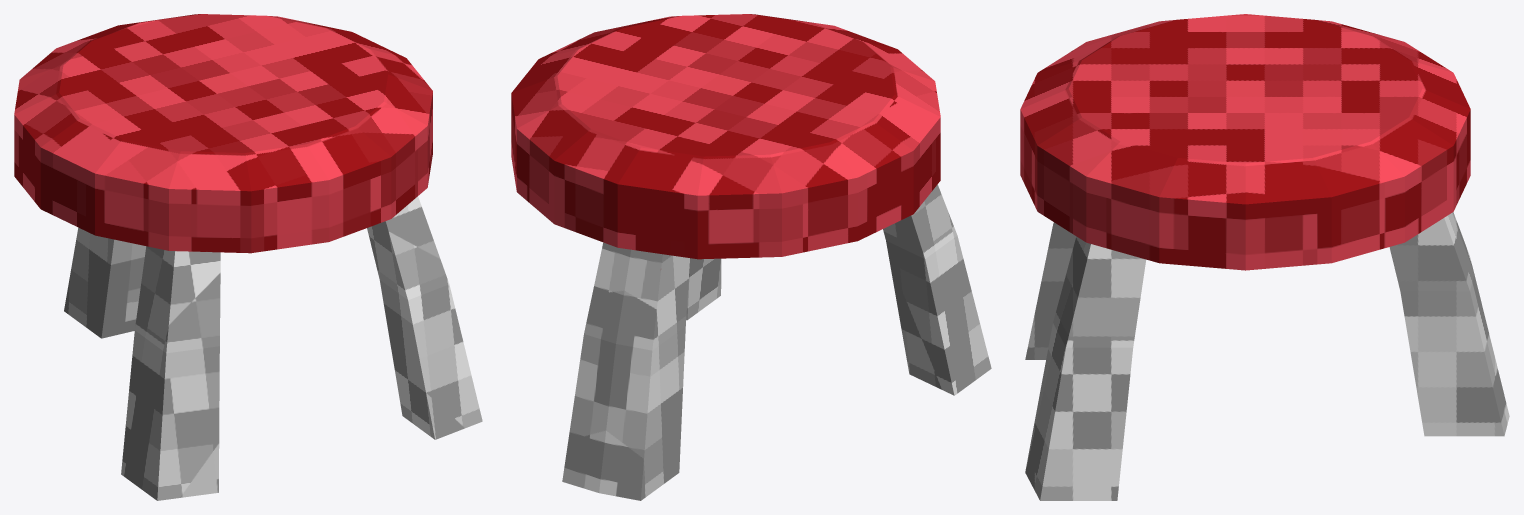
File: stool.fbx
The picture shows the model from 3 angles, left to right: view 1: azimuth 30°, elevation 25°; view 2: azimuth 150°, elevation 25°; view 3: azimuth 270°, elevation 25°; orthographic projection. The views are drawn at different scales.
Parts seen in each view (by area): view 1: stool; view 2: stool; view 3: stool.
Boxes of the visible parts, bbox=[...] form: stool: bbox=[14, 14, 482, 500]; stool: bbox=[511, 14, 991, 500]; stool: bbox=[1020, 14, 1509, 500].
Size of the model in its own units: 168 by 135 by 182.
2 materials, 2 textured.
